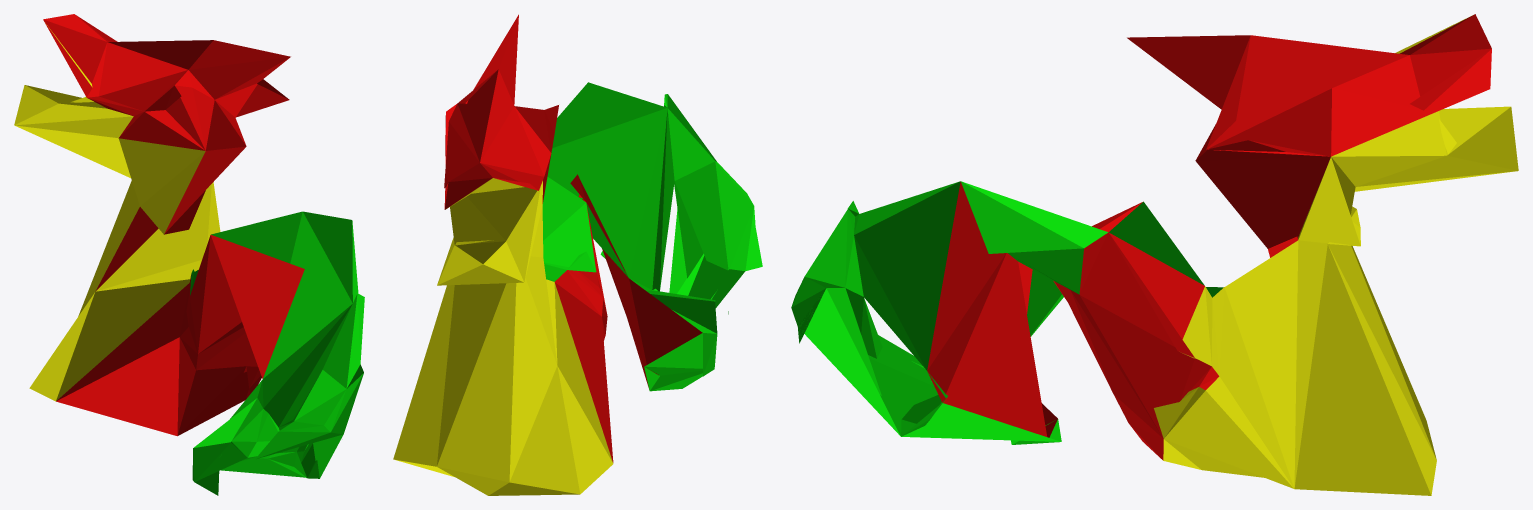
Rendered from Dragon_8K_L5.fbx.
The picture shows the model from 3 angles, left to right: view 1: azimuth 30°, elevation 25°; view 2: azimuth 150°, elevation 25°; view 3: azimuth 270°, elevation 25°; orthographic projection. The views are drawn at different scales.
Bounding box in the file's own units: 0.3568 × 0.6753 × 0.9066.
